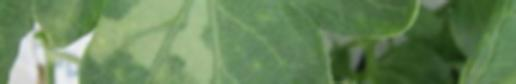Tomato leaf bacterial spot: (20, 0, 417, 84)
